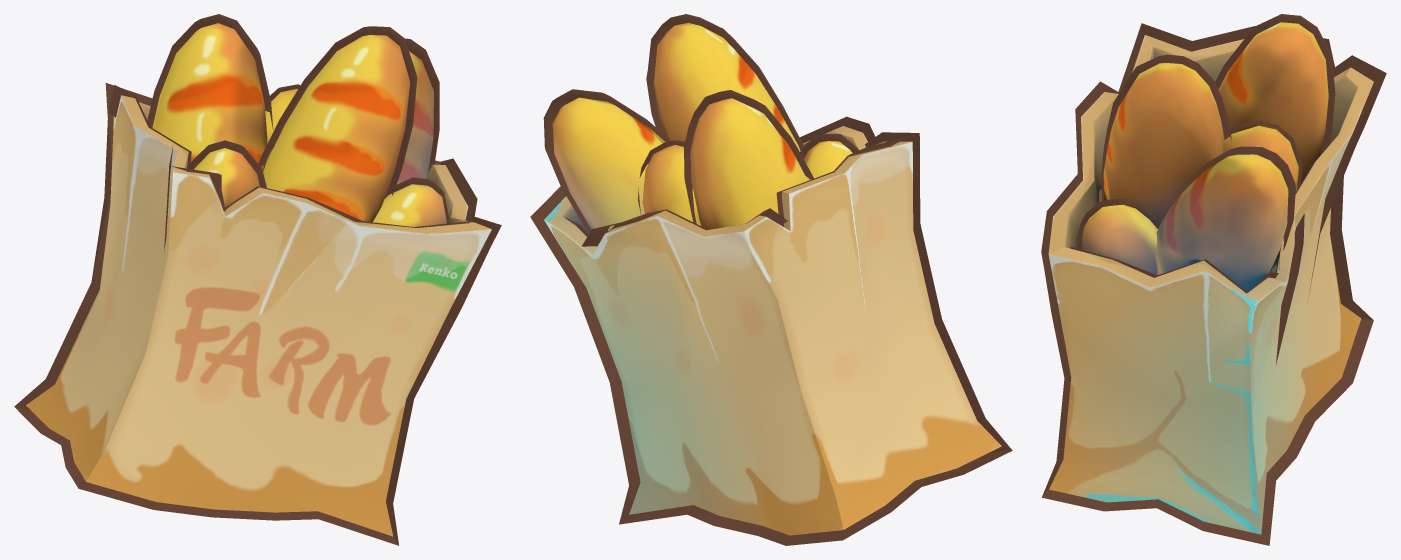
Rendered from Placeholder.gltf.
The picture shows the model from 3 angles, left to right: view 1: azimuth 30°, elevation 25°; view 2: azimuth 150°, elevation 25°; view 3: azimuth 270°, elevation 25°; orthographic projection.
Visible parts, largest first — view 1: Bag_low, Bread1_low, pCube2, Bread3_low, pPlatonic9, Bread2_low, Bread6_low, pPlatonic12, Bread5_low, pPlatonic14, pPlatonic10, Bread4_low; view 2: Bag_low, pCube2, Bread3_low, Bread2_low, Bread1_low, Bread4_low, pPlatonic9, pPlatonic12, pPlatonic14, Bread5_low; view 3: Bag_low, pCube2, Bread1_low, Bread2_low, Bread3_low, Bread6_low, pPlatonic12, pPlatonic9, Bread4_low, pPlatonic14, pPlatonic13, pPlatonic11.
Boxes of the visible parts, x1=… form: Bag_low: x1=26, y1=95, x2=491, y2=536; Bread1_low: x1=263, y1=35, x2=410, y2=222; pCube2: x1=14, y1=83, x2=501, y2=545; Bread3_low: x1=152, y1=23, x2=267, y2=171; pPlatonic9: x1=258, y1=26, x2=417, y2=198; Bread2_low: x1=396, y1=51, x2=433, y2=184; Bread6_low: x1=373, y1=184, x2=446, y2=226; pPlatonic12: x1=147, y1=14, x2=273, y2=130; Bread5_low: x1=194, y1=148, x2=259, y2=207; pPlatonic14: x1=405, y1=38, x2=439, y2=172; pPlatonic10: x1=190, y1=140, x2=266, y2=187; Bread4_low: x1=263, y1=88, x2=297, y2=169; Bag_low: x1=544, y1=126, x2=1001, y2=535; pCube2: x1=530, y1=116, x2=1012, y2=545; Bread3_low: x1=690, y1=98, x2=807, y2=229; Bread2_low: x1=552, y1=97, x2=665, y2=230; Bread1_low: x1=653, y1=22, x2=800, y2=151; Bread4_low: x1=642, y1=145, x2=701, y2=225; pPlatonic9: x1=646, y1=14, x2=803, y2=150; pPlatonic12: x1=684, y1=90, x2=813, y2=223; pPlatonic14: x1=543, y1=89, x2=667, y2=232; Bread5_low: x1=804, y1=141, x2=852, y2=180; Bag_low: x1=1048, y1=35, x2=1373, y2=534; pCube2: x1=1041, y1=23, x2=1386, y2=545; Bread1_low: x1=1103, y1=63, x2=1225, y2=228; Bread2_low: x1=1155, y1=154, x2=1288, y2=291; Bread3_low: x1=1218, y1=22, x2=1328, y2=182; Bread6_low: x1=1080, y1=204, x2=1157, y2=275; pPlatonic12: x1=1215, y1=14, x2=1335, y2=153; pPlatonic9: x1=1101, y1=54, x2=1231, y2=200; Bread4_low: x1=1224, y1=126, x2=1298, y2=191; pPlatonic14: x1=1156, y1=146, x2=1295, y2=271; pPlatonic13: x1=1223, y1=120, x2=1302, y2=189; pPlatonic11: x1=1076, y1=198, x2=1158, y2=241.
Size of the model in its own units: 41.63 by 44.9 by 29.37.
Materials: 2 (2 with a texture image).
